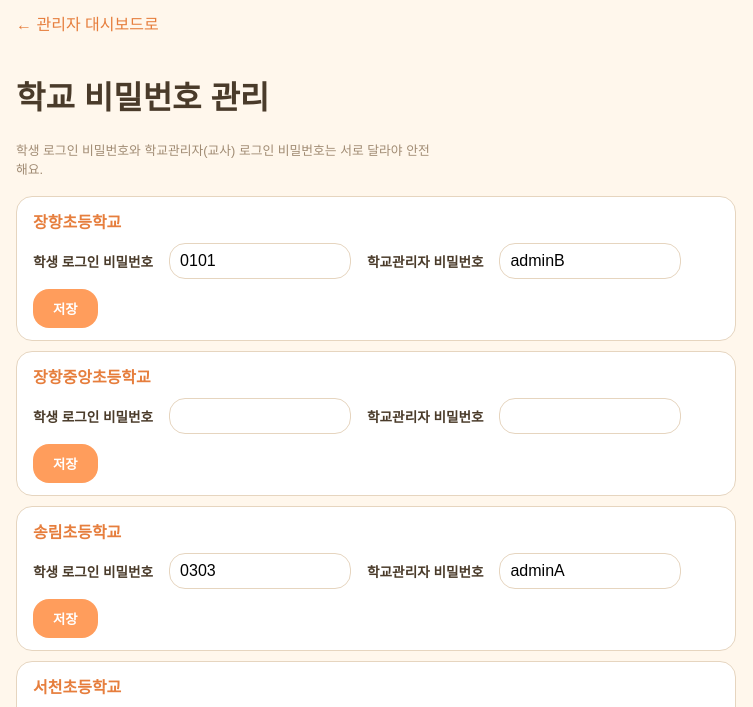
Scenario: SchoolPasswordsPage (전체관리자로 로그인) › 둘 중 하나만 저장에 실패해도(예: 관리자 비밀번호 컬렉션 권한 문제) 완료 문구를 보여준다(부분 성공 허용)
The image size is (753, 707).
Step 1. Click the button "저장" below "송림초등학교" → (65, 618), box [33, 599, 98, 638]
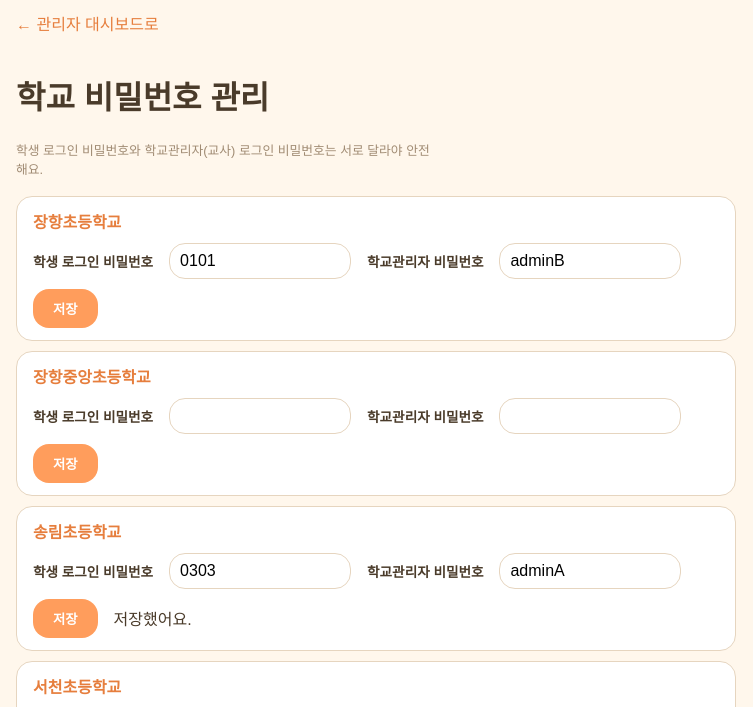
Expected: the message shows "저장했어요", [114, 611, 192, 628]
